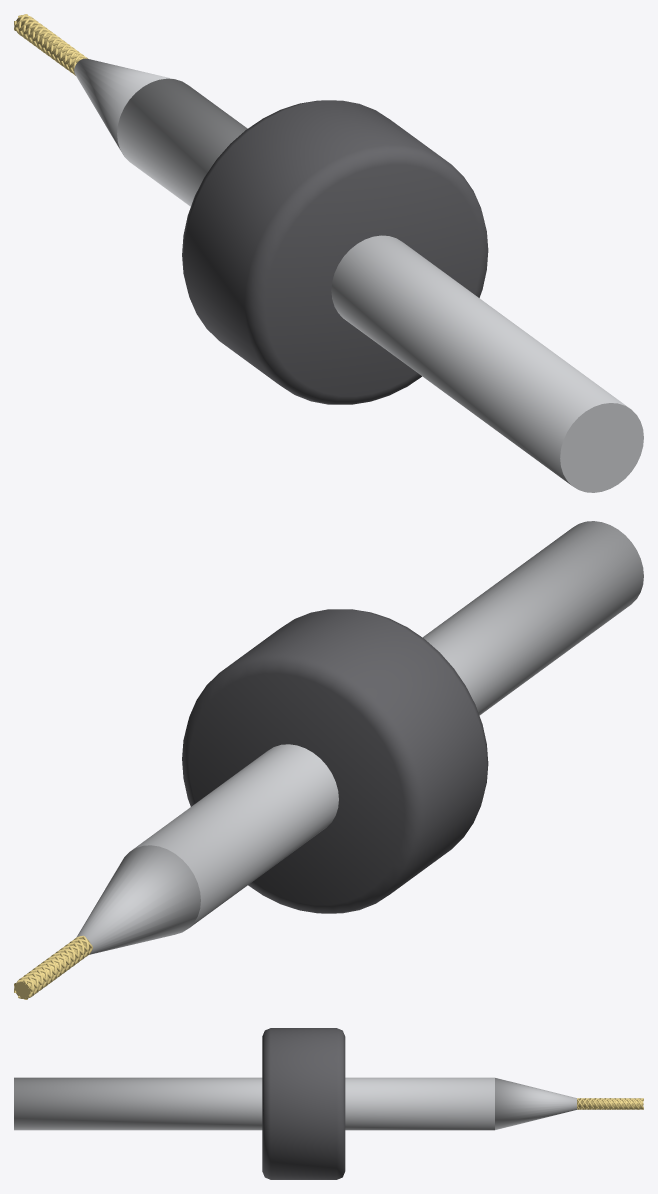
Rendered from corn18_0p7.glb.
3 renders of one model, top to bottom at view 1: azimuth 30°, elevation 25°; view 2: azimuth 150°, elevation 25°; view 3: azimuth 270°, elevation 25°, orthographic. The views are drawn at different scales.
Visible parts, largest first — view 1: Cylinder.002, Cylinder.001, Cone; view 2: Cylinder.002, Cylinder.001, Cone; view 3: Cylinder.001, Cylinder.002, Cone, Cylinder.
Part boxes in pixels (<box>): Cylinder.002: <box>182,100,488,404</box>; Cylinder.001: <box>117,78,643,492</box>; Cone: <box>74,58,174,149</box>; Cylinder.002: <box>182,609,488,913</box>; Cylinder.001: <box>130,521,643,927</box>; Cone: <box>76,845,200,954</box>; Cylinder.001: <box>14,1077,494,1130</box>; Cylinder.002: <box>262,1028,345,1179</box>; Cone: <box>495,1078,576,1129</box>; Cylinder: <box>577,1099,643,1108</box>.
Size of the model in its own units: 0.00917 by 0.00917 by 0.038.
